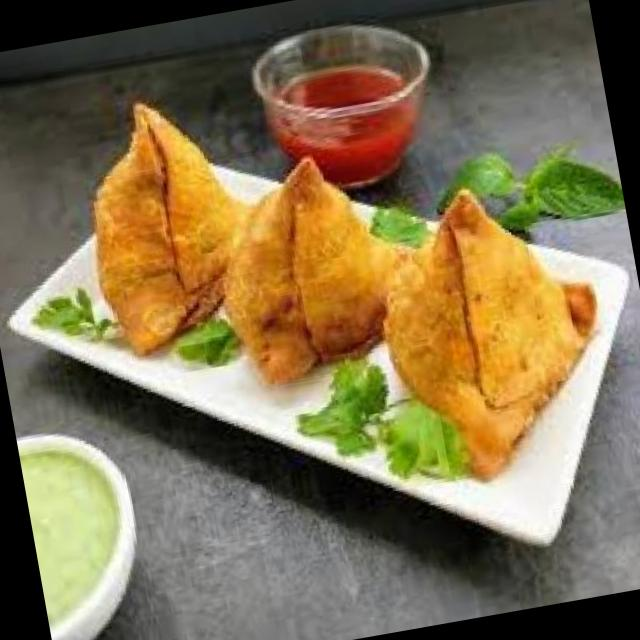samosa: (364, 170, 623, 496), (71, 88, 269, 359), (202, 142, 417, 388)
